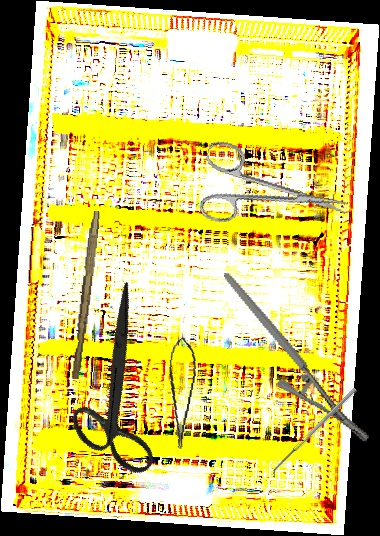Iris Scissors: (23, 281, 213, 492), (192, 138, 355, 250)
Micro Scissor: (157, 335, 201, 450)
Needle Holder: (223, 245, 371, 469)
Scalpel Handle: (70, 210, 101, 380)
Spatula Surgical: (268, 387, 361, 479)
